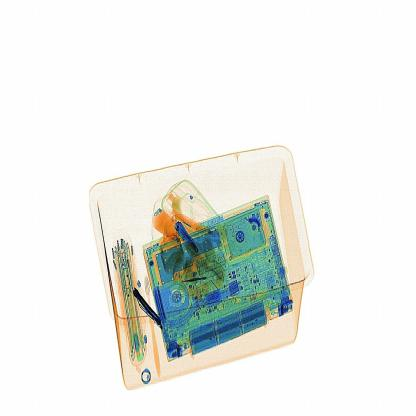knife: (126, 280, 163, 342)
